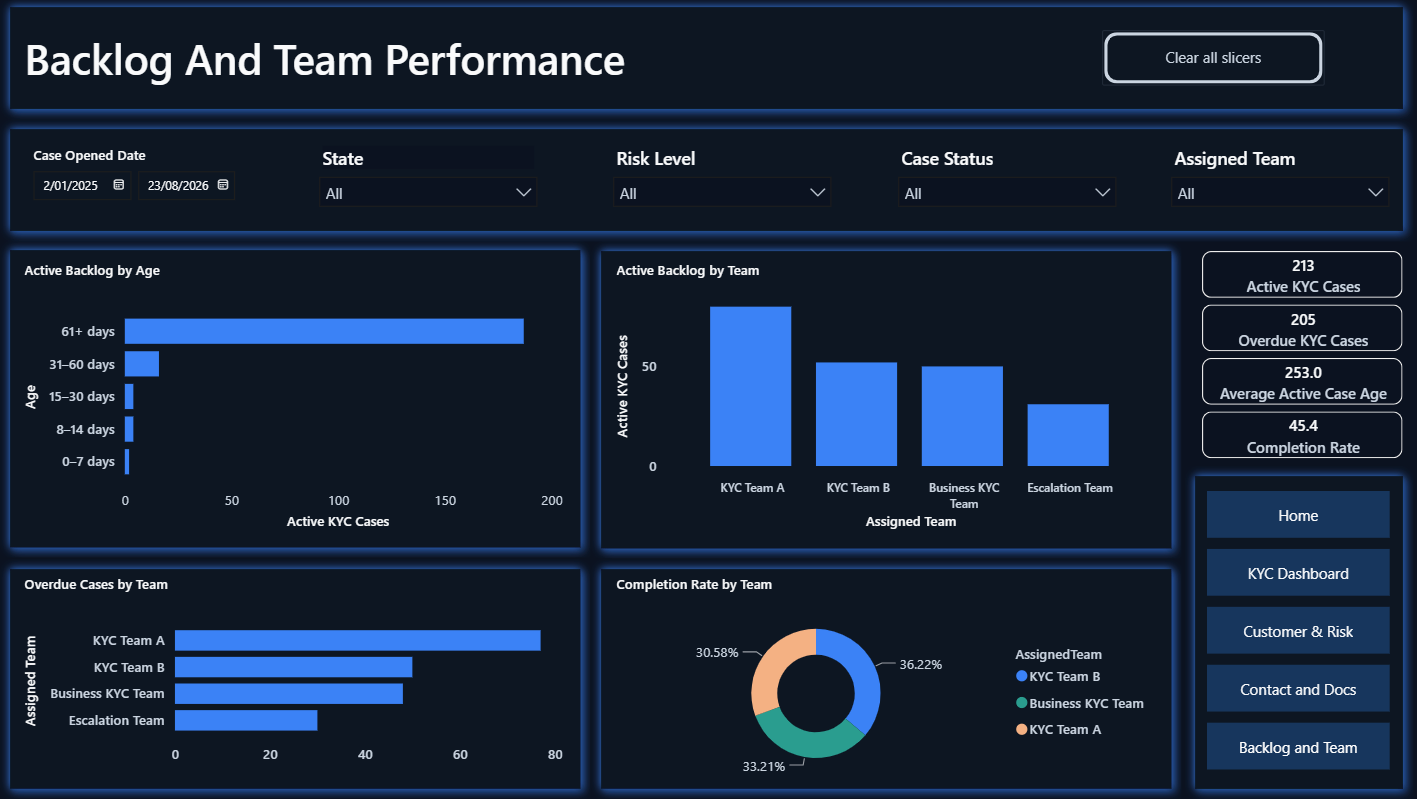

The page's visual inventory and layout, read from the dashboard file:
{"tool":"powerbi","page":{"name":"Backlog and Team ","canvas":[1280,720],"ordinal":4},"visuals":[{"type":"shape","box":[530.4,504.5,530.4,215.4],"z":0},{"type":"shape","box":[0,504.5,530.4,215.4],"z":1000},{"type":"shape","box":[530.4,219.2,530.4,285.3],"z":2000},{"type":"shape","box":[0,218.3,530.4,285.3],"z":3000},{"type":"shape","box":[1063.8,421,204.7,299],"z":4000},{"type":"shape","box":[0,0,1268.5,109.5],"z":5000},{"type":"shape","box":[0,109.5,1268.5,109.5],"z":6000},{"type":"textbox","box":[17.2,24.9,808,78.5],"z":7000},{"type":"pageNavigator","box":[1083.6,443.5,164.3,255],"z":8000},{"type":"slicer","fields":{"Values":["DimDate.DateLabel"]},"box":[17.1,128.4,216.4,71.8],"z":9000},{"type":"slicer","fields":{"Values":["DimCustomer.State"]},"box":[276.5,128.4,216.4,71.8],"z":10000},{"type":"slicer","fields":{"Values":["DimCustomer.RiskLevel"]},"box":[540.4,128.4,216.4,71.8],"z":11000},{"type":"slicer","fields":{"Values":["DimCaseStatus.CaseStatus"]},"box":[796.3,128.4,216.4,71.8],"z":12000},{"type":"slicer","fields":{"Values":["DimTeam.AssignedTeam"]},"box":[1041.4,128.4,216.4,71.8],"z":13000},{"type":"cardVisual","fields":{"Data":["FactKYCCase.Active KYC Cases","FactKYCCase.Overdue KYC casesOverdue KYC Cases","FactKYCCase.Average Active Case Age","FactKYCCase.Completion Rate"]},"box":[1070.1,219.1,198.4,205.6],"z":14000},{"type":"clusteredBarChart","title":"Active Backlog by Age","fields":{"Category":["FactKYCCase.AgeBucket"],"Y":["FactKYCCase.Active KYC Cases"]},"box":[17.2,237.4,493,246],"z":15000},{"type":"columnChart","title":"Active Backlog by Team  ","fields":{"Category":["DimTeam.AssignedTeam"],"Y":["FactKYCCase.Active KYC Cases"]},"box":[548.6,237.4,493,246],"z":16000},{"type":"clusteredBarChart","title":" Overdue Cases by Team ","fields":{"Category":["DimTeam.AssignedTeam"],"Y":["FactKYCCase.Overdue KYC casesOverdue KYC Cases"]},"box":[17.2,518.9,493,179],"z":17000},{"type":"donutChart","title":"Completion Rate by Team  ","fields":{"Category":["DimTeam.AssignedTeam"],"Y":["FactKYCCase.Completion Rate"]},"box":[548.6,518.9,493,185.7],"z":18000},{"type":"actionButton","title":"Reset Filters","box":[989,29.7,200,50],"z":18001}]}

Visuals, with their boxes in screenshot pixels (x1, y1, x2, y2), scaled from the page's 1280x720 canvas onto the 1417x799 screenshot:
shape: Rect(587, 560, 1174, 798)
shape: Rect(0, 560, 587, 798)
shape: Rect(587, 243, 1174, 560)
shape: Rect(0, 242, 587, 559)
shape: Rect(1178, 467, 1404, 798)
shape: Rect(0, 0, 1404, 122)
shape: Rect(0, 122, 1404, 243)
textbox: Rect(19, 28, 914, 115)
pageNavigator: Rect(1200, 492, 1381, 775)
slicer - DimDate.DateLabel: Rect(19, 142, 258, 222)
slicer - DimCustomer.State: Rect(306, 142, 546, 222)
slicer - DimCustomer.RiskLevel: Rect(598, 142, 838, 222)
slicer - DimCaseStatus.CaseStatus: Rect(882, 142, 1121, 222)
slicer - DimTeam.AssignedTeam: Rect(1153, 142, 1392, 222)
cardVisual - FactKYCCase.Active KYC Cases x FactKYCCase.Overdue KYC casesOverdue KYC Cases: Rect(1185, 243, 1404, 471)
"Active Backlog by Age" clusteredBarChart: Rect(19, 263, 565, 536)
"Active Backlog by Team  " columnChart: Rect(607, 263, 1153, 536)
" Overdue Cases by Team " clusteredBarChart: Rect(19, 576, 565, 774)
"Completion Rate by Team  " donutChart: Rect(607, 576, 1153, 782)
"Reset Filters" actionButton: Rect(1095, 33, 1316, 88)
